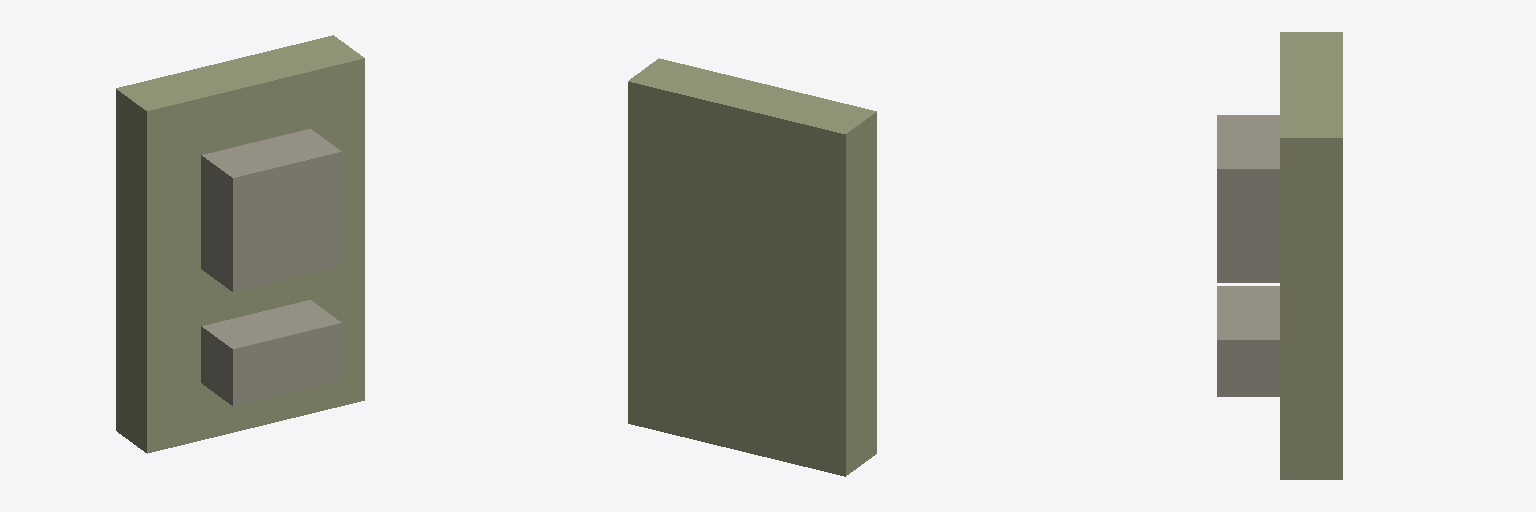
3 renders of one model, left to right at view 1: azimuth 30°, elevation 25°; view 2: azimuth 150°, elevation 25°; view 3: azimuth 270°, elevation 25°, orthographic.
Parts seen in each view (by area): view 1: Switch; view 2: Switch; view 3: Switch.
Part boxes in pixels (x1,y1,x2,y2): Switch: (116,35,364,453); Switch: (628,58,876,476); Switch: (1217,32,1342,479).
Bounding box in the file's own units: 0.4 × 0.6 × 0.2.
Materials: 1 (1 with a texture image).